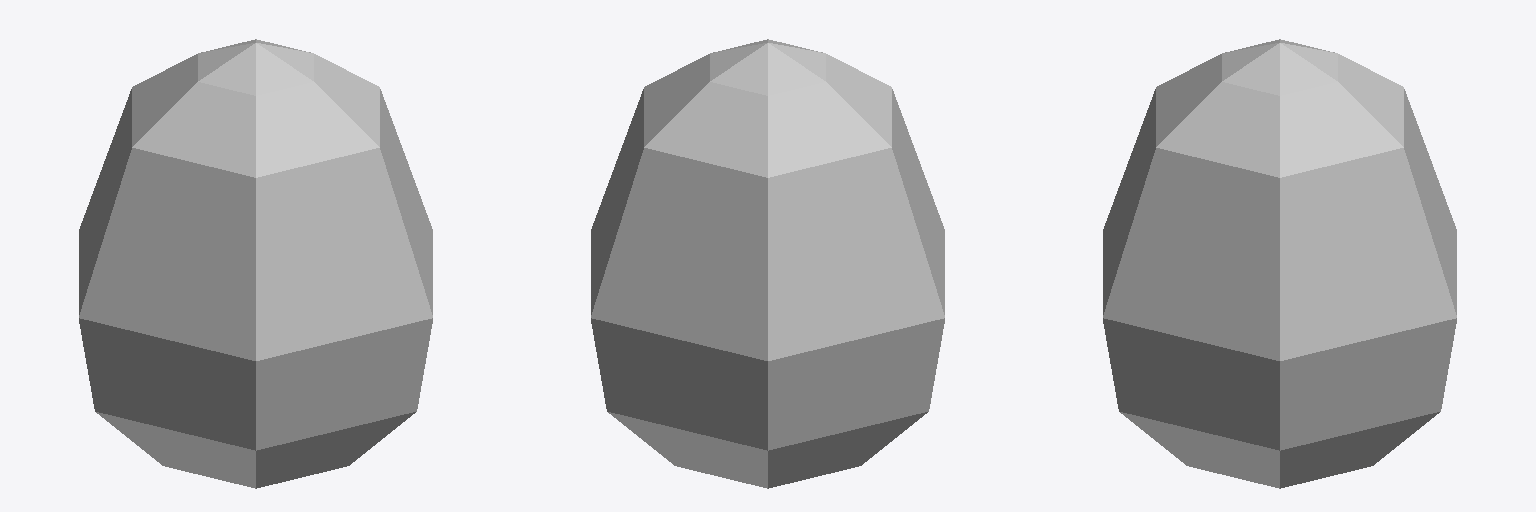
File: egg.obj
The picture shows the model from 3 angles: view 1: azimuth 30°, elevation 25°; view 2: azimuth 150°, elevation 25°; view 3: azimuth 270°, elevation 25°; orthographic projection.
Visible parts, largest first — view 1: egg_geo; view 2: egg_geo; view 3: egg_geo.
Boxes of the visible parts, <box> form: egg_geo: <box>79,39,432,488</box>; egg_geo: <box>591,39,944,488</box>; egg_geo: <box>1103,39,1456,488</box>.
Bounding box in the file's own units: 1.91 × 2.19 × 1.65.